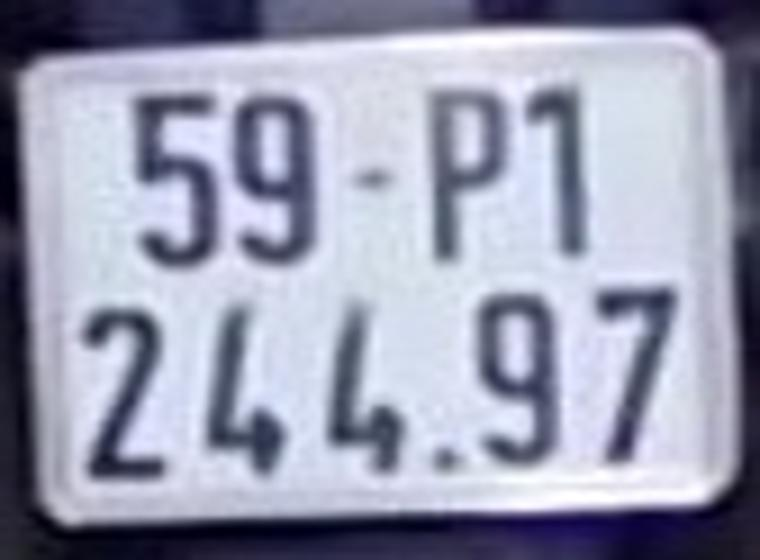-: (352, 165, 399, 194)
.: (419, 440, 463, 476)
1: (519, 80, 596, 260)
2: (77, 294, 180, 487)
4: (316, 297, 411, 479), (190, 310, 286, 479)
5: (132, 91, 229, 267)
7: (594, 277, 681, 468)
9: (470, 278, 562, 469), (233, 86, 322, 266)
P: (423, 81, 512, 269)
